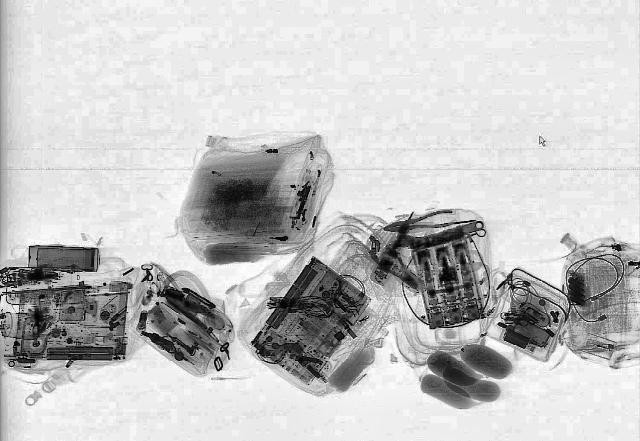Pliers: (380, 208, 460, 238)
Wrench: (386, 214, 490, 258)
